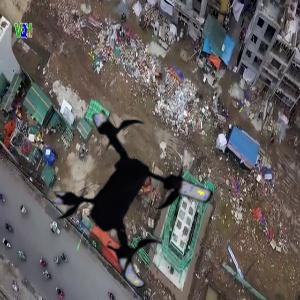drone: (45, 108, 230, 293)
